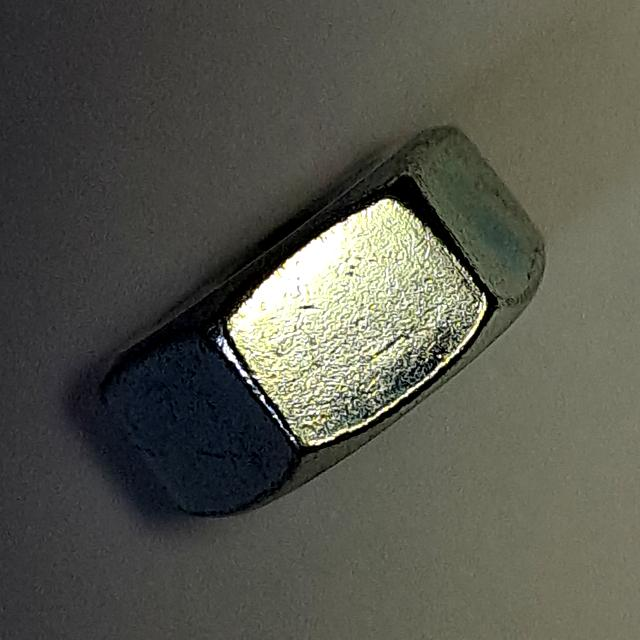Side_Excellent: (87, 111, 563, 530)
